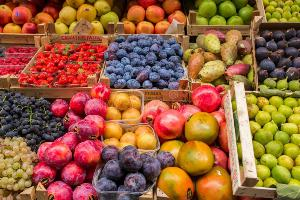apple: (37, 88, 109, 200), (119, 1, 185, 36), (0, 1, 56, 36), (59, 0, 113, 34), (196, 0, 256, 28)
figs: (250, 26, 300, 82)
grape: (1, 91, 60, 199)
lemon: (240, 87, 300, 188)
lime: (262, 0, 300, 24)
mango: (158, 128, 234, 200)
plum: (103, 32, 190, 94), (93, 146, 169, 200)
pomegranate: (142, 86, 232, 142)
strawberry: (17, 41, 113, 89)
